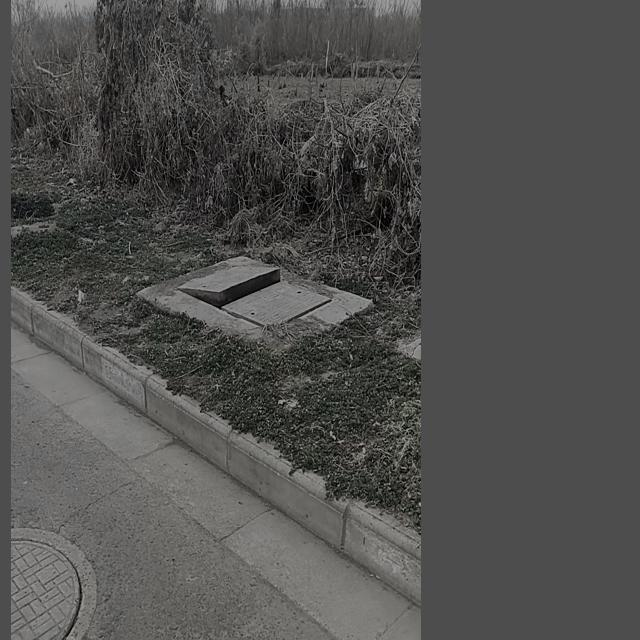good: (11, 530, 97, 640)
uncovered: (182, 252, 334, 332)
